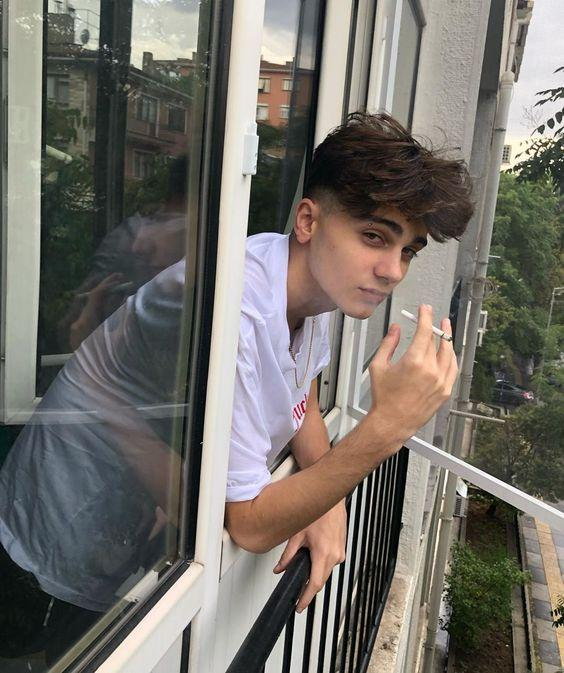cigarette: (400, 309, 453, 342)
